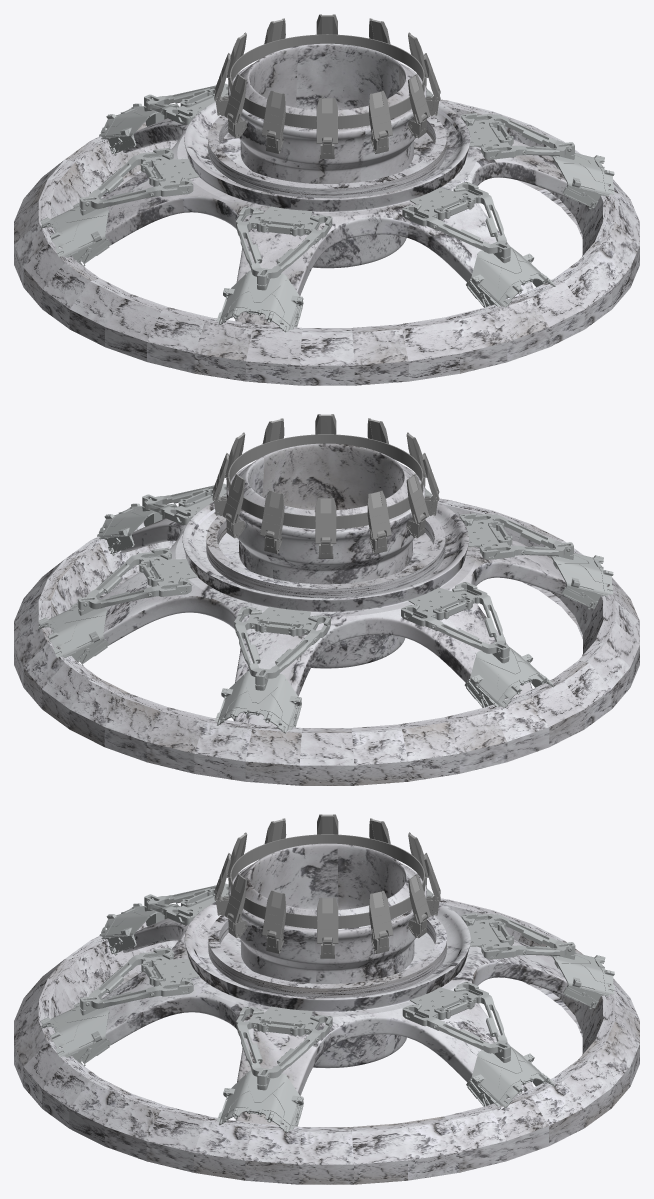
Rendered from engine_new.gltf.
3 views of the same model, one above another, from view 1: azimuth 30°, elevation 25°; view 2: azimuth 150°, elevation 25°; view 3: azimuth 270°, elevation 25° (orthographic).
Visible parts, largest first — view 1: HeavyStructure_Part_7_1.5728; view 2: HeavyStructure_Part_7_1.5728; view 3: HeavyStructure_Part_7_1.5728.
Part boxes in pixels (box(x1,y1,x2,y2)): HeavyStructure_Part_7_1.5728: box(14, 14, 639, 385); HeavyStructure_Part_7_1.5728: box(14, 414, 639, 785); HeavyStructure_Part_7_1.5728: box(14, 814, 639, 1184).
Size of the model in its own units: 14.65 by 5.09 by 14.67.
Materials: 5 (3 with a texture image).
